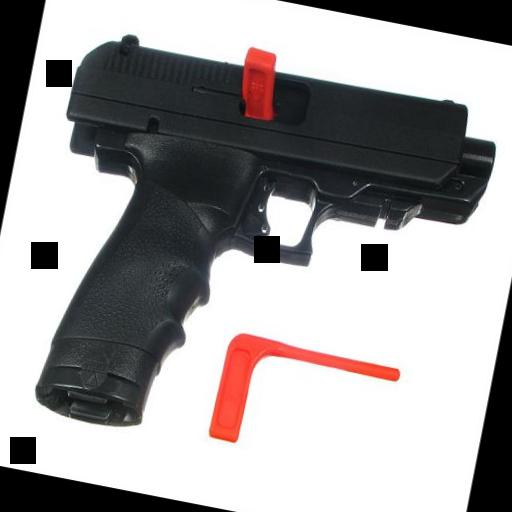Handgun: (6, 26, 503, 492)
